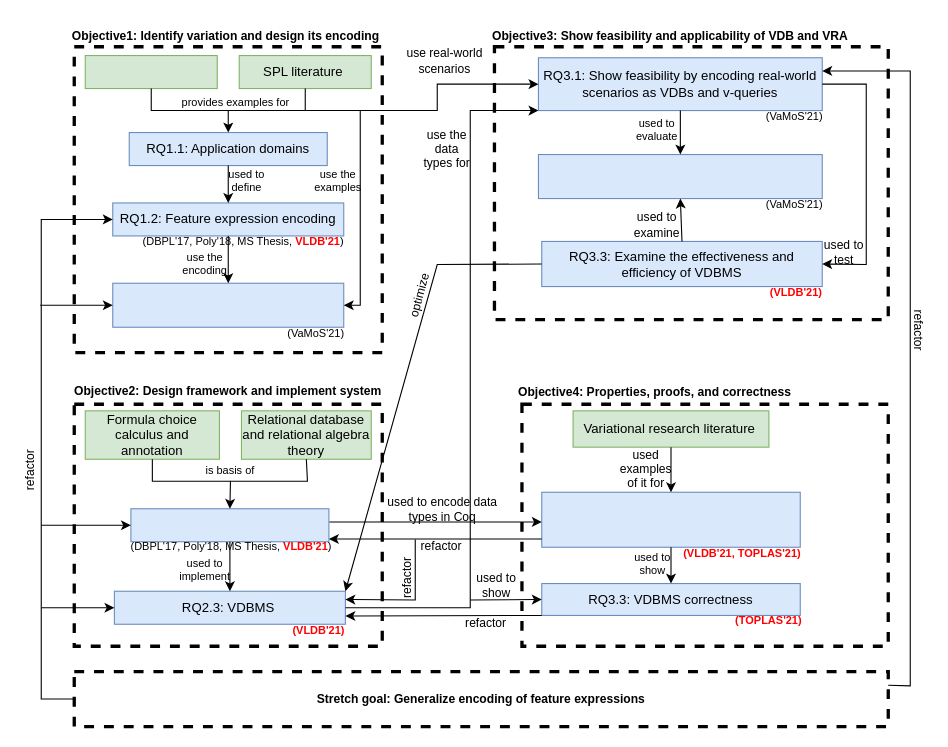
The diagram is 948 pixels wide and 747 high, and some of its shapes have lost their labels. Each missing label, with the box of its shape:
Database literature: (84, 54, 217, 89)
RQ1.3: Encode examples as feature expressions: (112, 282, 344, 327)
RQ2.1: VDB theory RQ2.2: VRA theory: (130, 508, 329, 542)
RQ3.2: Pros and cons of explicitly encoding variation in databases and queries: (537, 153, 822, 199)
RQ4.1: VDB properties and their proofs RQ4.2: VRA properties and their proofs: (541, 491, 800, 547)
